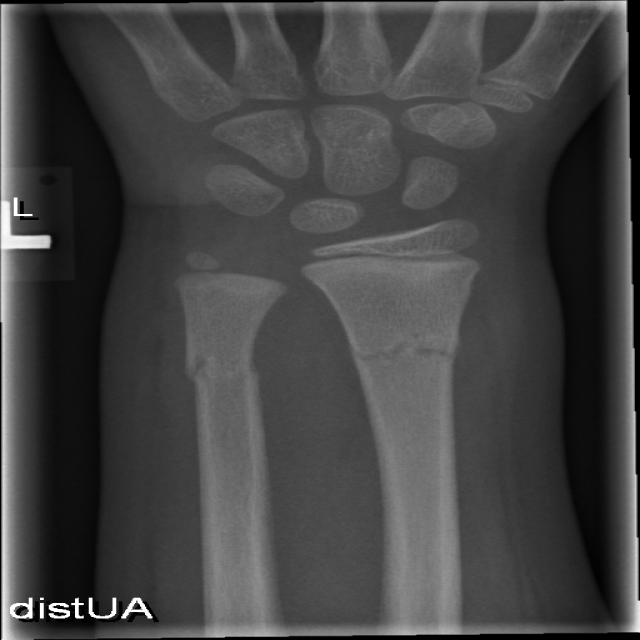radius fracture: (310, 312, 500, 414)
ulna fracture: (167, 327, 295, 438)
